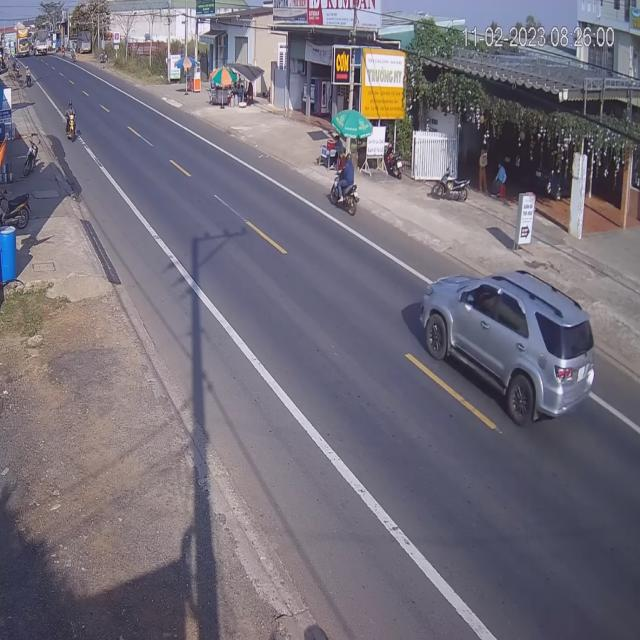car: (414, 268, 596, 423)
motorbike: (331, 160, 362, 220), (66, 106, 78, 145)
